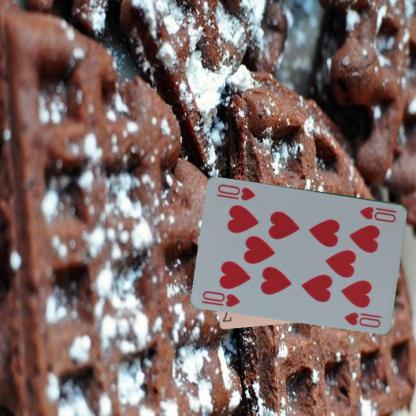10h: (357, 204, 399, 224), (200, 288, 242, 308)
